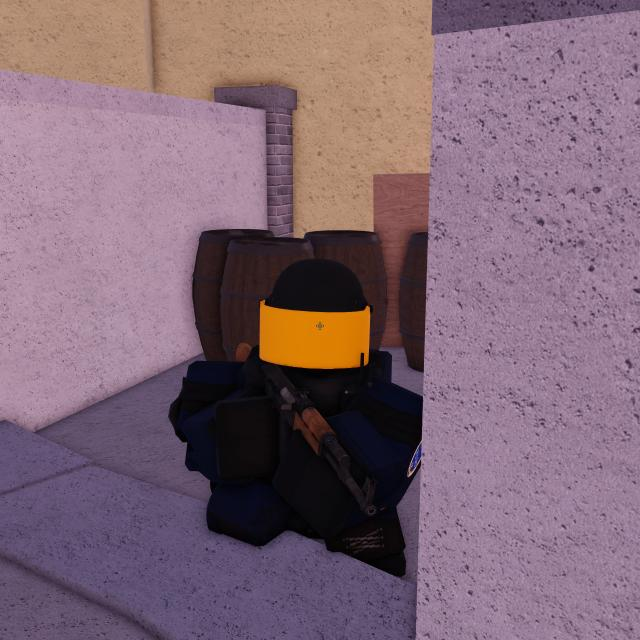Head: (258, 259, 371, 370)
Player: (168, 258, 426, 578)
